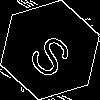S: (25, 25, 82, 82)
